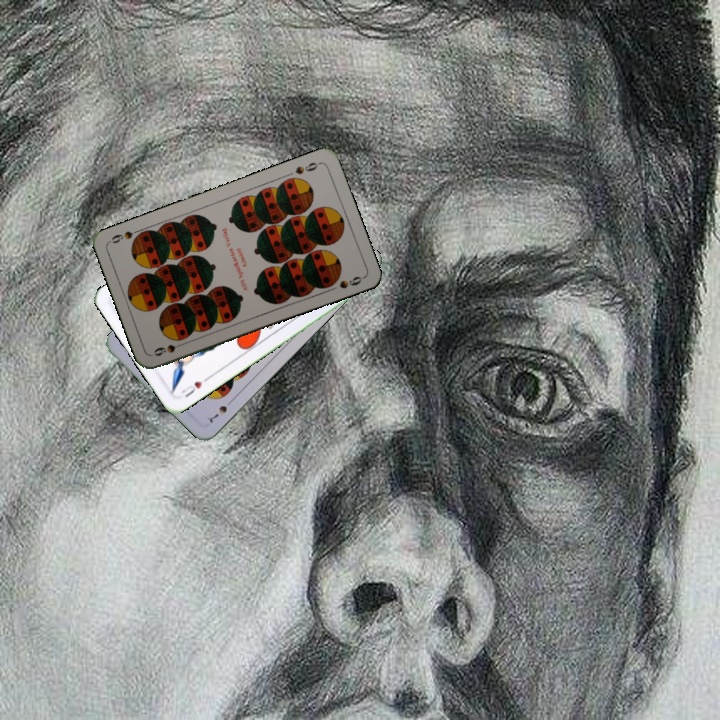HU: (177, 373, 212, 400)
S7: (205, 395, 236, 426)
S9: (150, 338, 189, 359), (291, 158, 323, 177)
